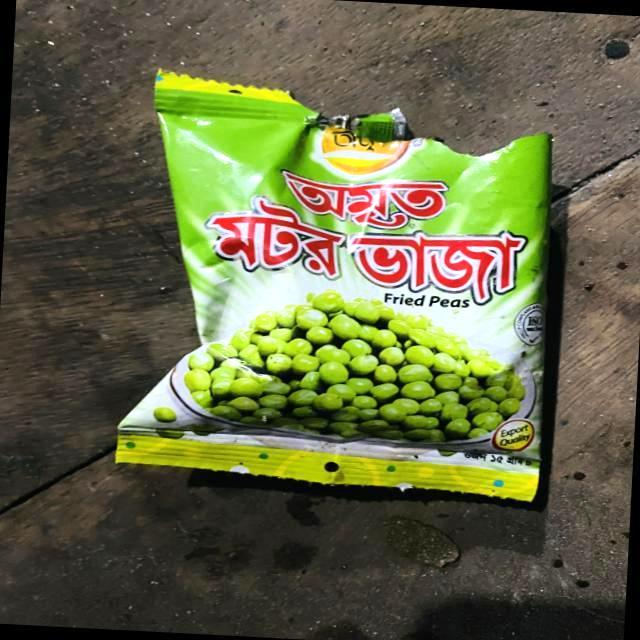packet: (125, 63, 572, 506)
